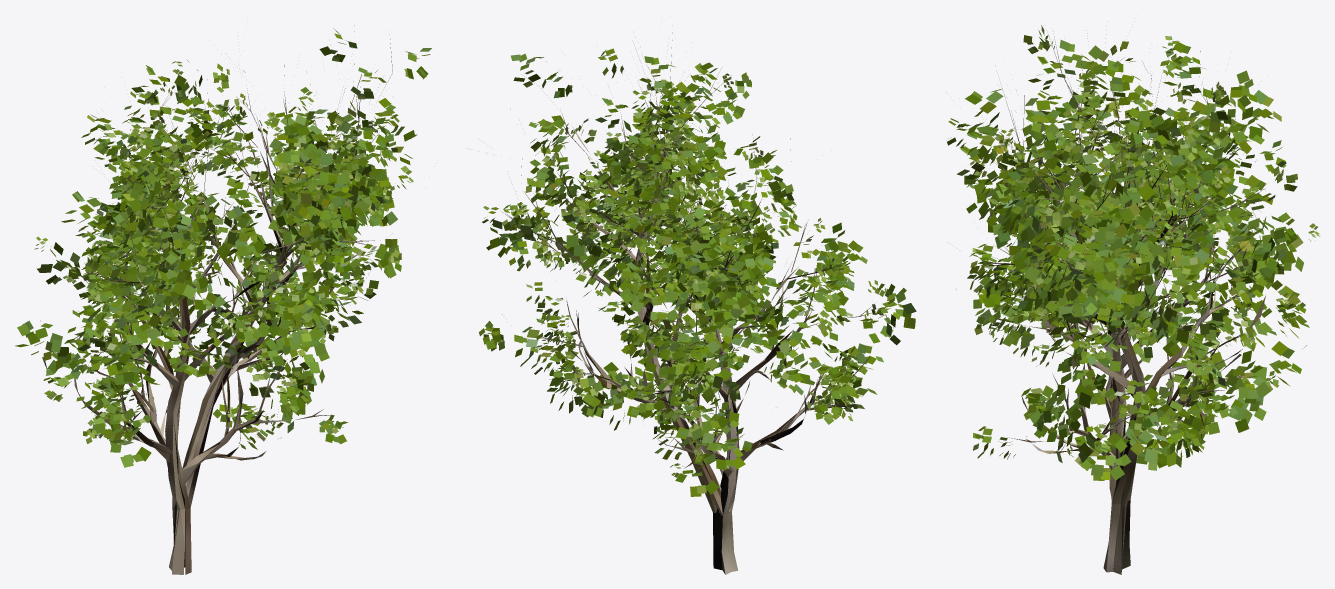
Rendered from tree1.glb.
3 views of the same model, side by side, from view 1: azimuth 30°, elevation 25°; view 2: azimuth 150°, elevation 25°; view 3: azimuth 270°, elevation 25° (orthographic). The views are drawn at different scales.
Parts seen in each view (by area): view 1: treeBirch; view 2: treeBirch; view 3: treeBirch.
Boxes of the visible parts, <box> form: treeBirch: <box>15,25,431,574</box>; treeBirch: <box>479,25,916,574</box>; treeBirch: <box>946,21,1320,574</box>.
Size of the model in its own units: 8.47 by 10.19 by 5.97.
2 materials, 2 textured.
